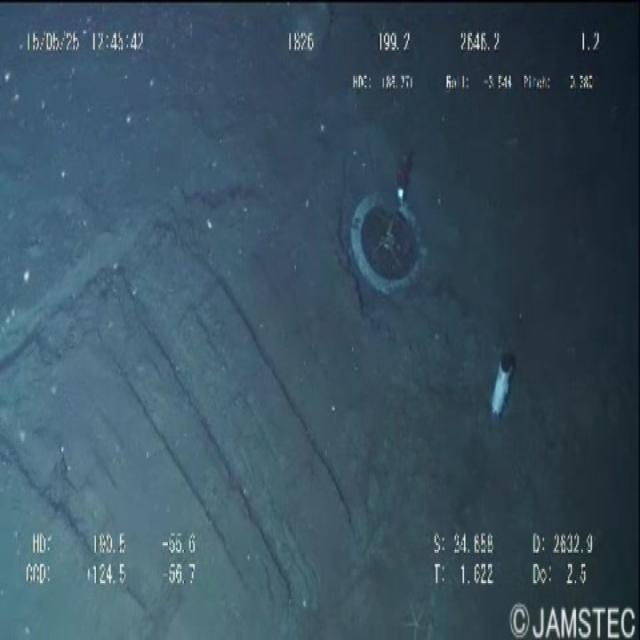Metal: (346, 165, 436, 313), (494, 335, 524, 448)
